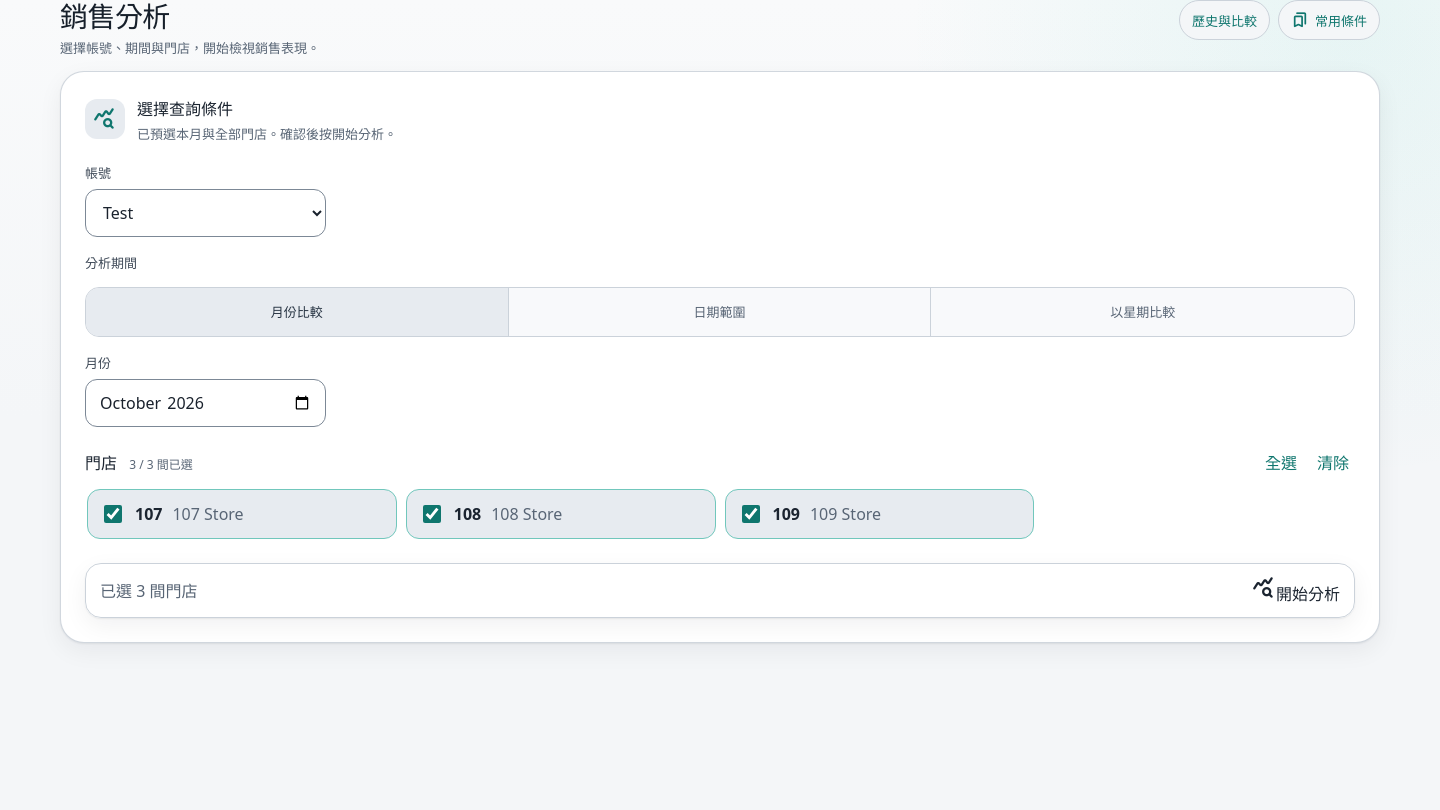
stops before export when query results are incomplete
This screenshot has width=1440, height=810.
Expected: the text "107 Store" is shown, [172,503,244,525]
Click the button "常用條件". click: (1329,20)
box: [1278,0,1380,40]
(page scrolled)
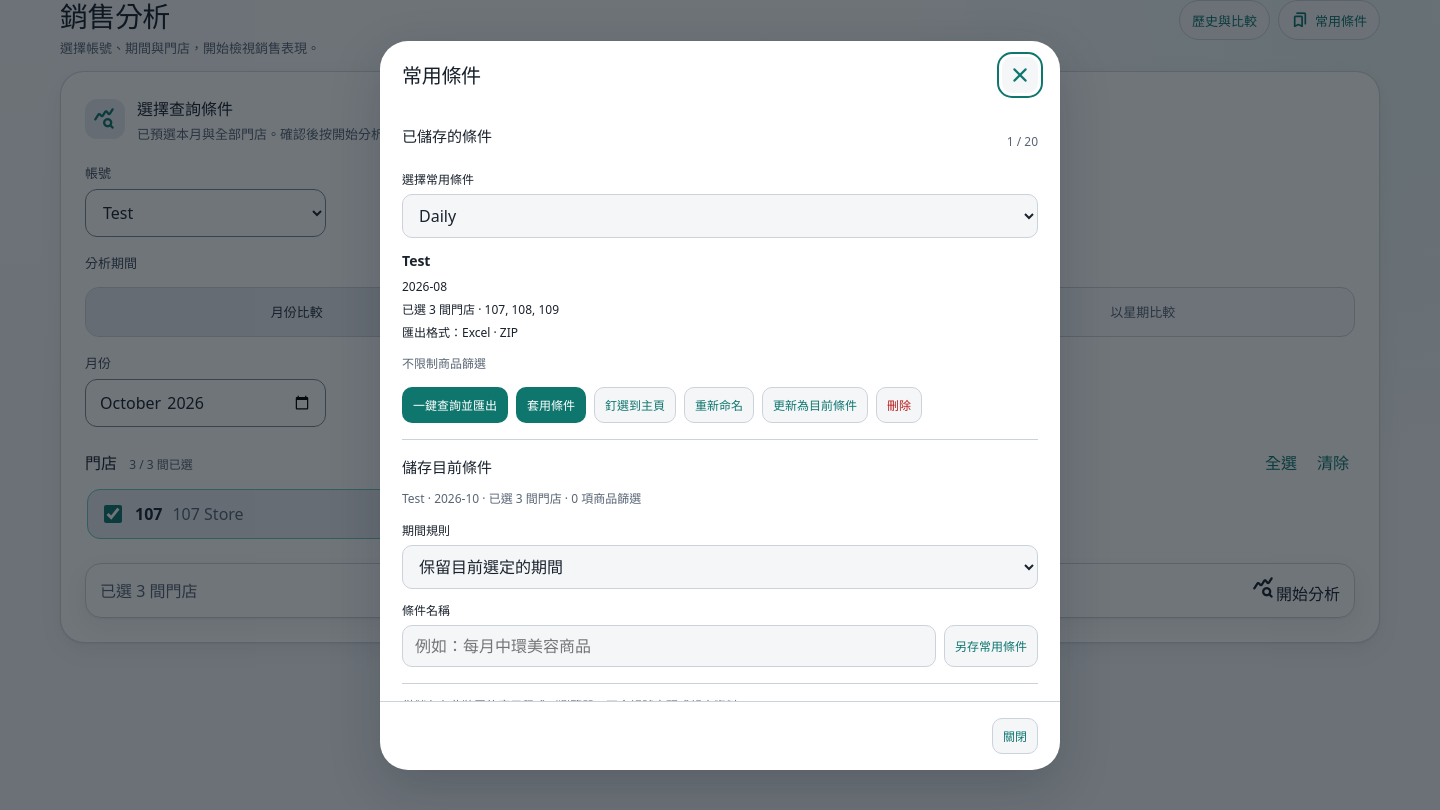
Expected: the dialog is shown, [380,40,1060,770]
Click the button "一鍵查詢並匯出". click: (455,405)
box: [402,387,508,423]
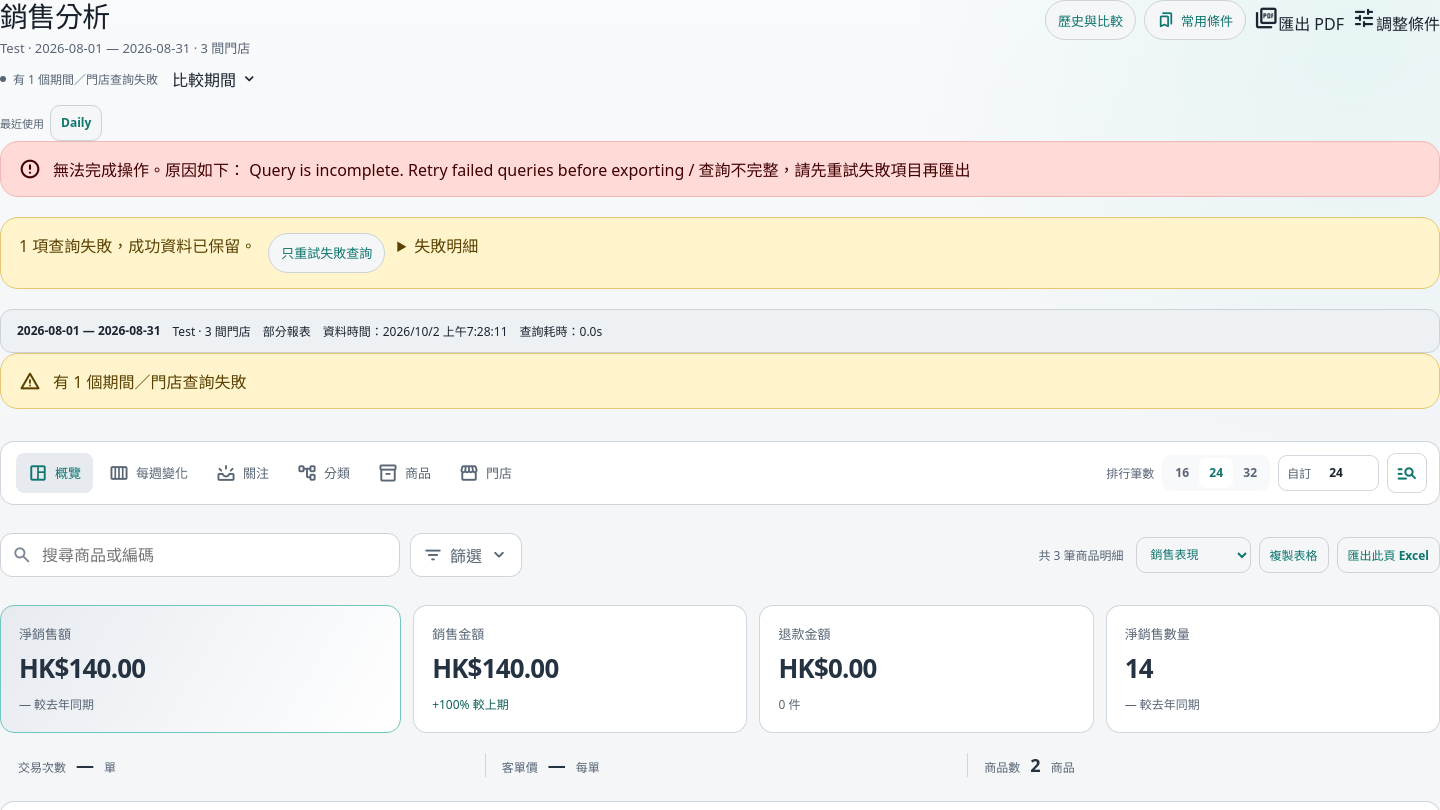
Expected: the text "查詢不完整，請先重試" is shown, [53,159,970,181]
